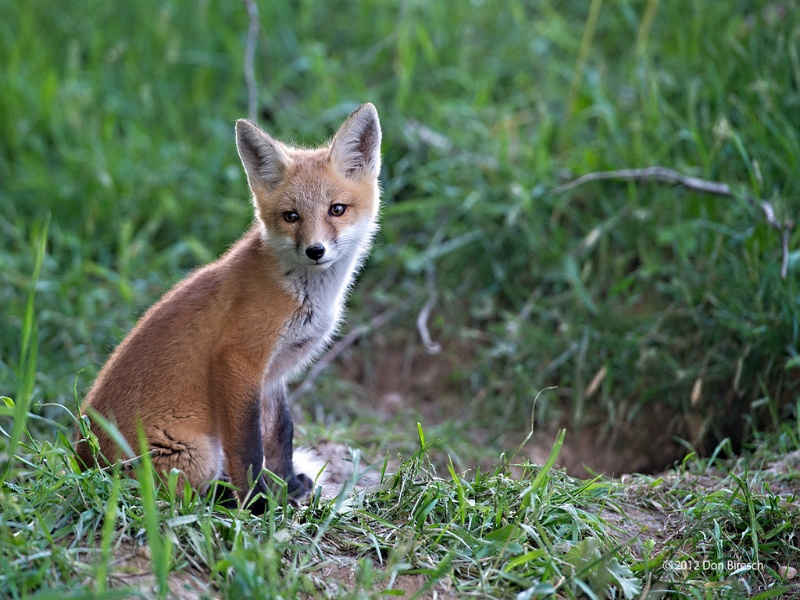fox: (59, 100, 388, 503)
